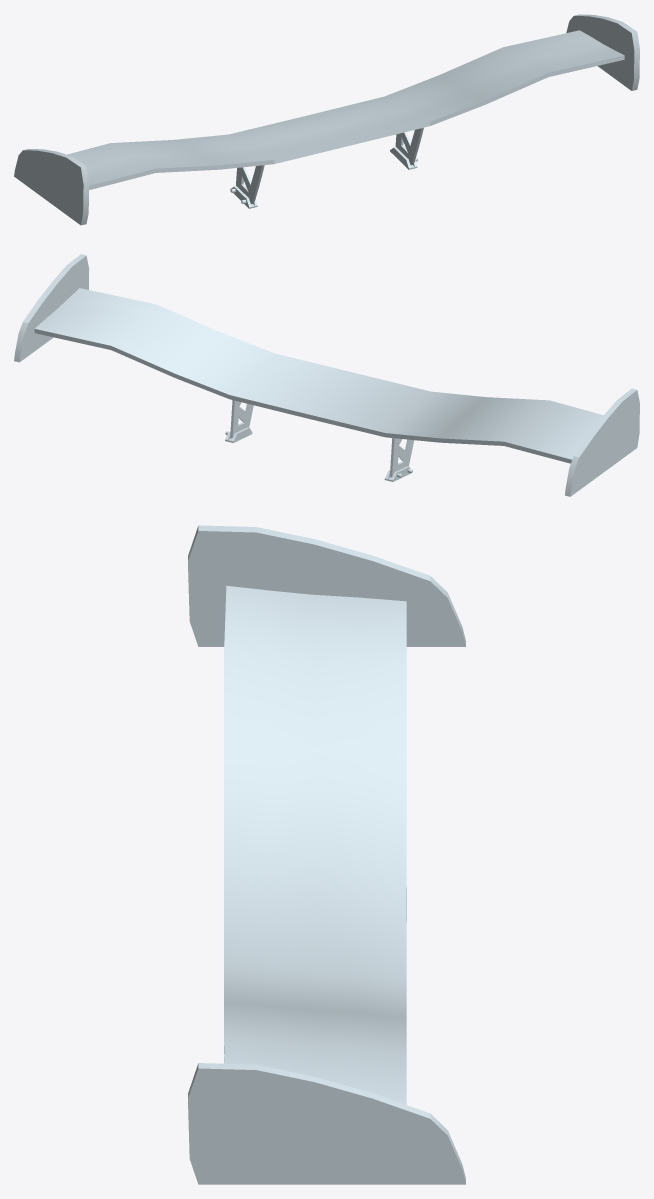
Rendered from Spojler_siete.fbx.
3 renders of one model, top to bottom at view 1: azimuth 30°, elevation 25°; view 2: azimuth 150°, elevation 25°; view 3: azimuth 270°, elevation 25°, orthographic. The views are drawn at different scales.
Parts seen in each view (by area): view 1: uploads_files_45766_7, uploads_files_45766_7.001; view 2: uploads_files_45766_7, uploads_files_45766_7.001; view 3: uploads_files_45766_7, uploads_files_45766_7.001.
Boxes of the visible parts, left/top/right/bottom form: uploads_files_45766_7: left=67, top=30, right=624, bottom=208; uploads_files_45766_7.001: left=14, top=14, right=639, bottom=225; uploads_files_45766_7: left=34, top=288, right=603, bottom=481; uploads_files_45766_7.001: left=14, top=254, right=639, bottom=496; uploads_files_45766_7: left=224, top=585, right=406, bottom=1104; uploads_files_45766_7.001: left=188, top=525, right=465, bottom=1184.
Size of the model in its own units: 199 by 37.71 by 43.11.
